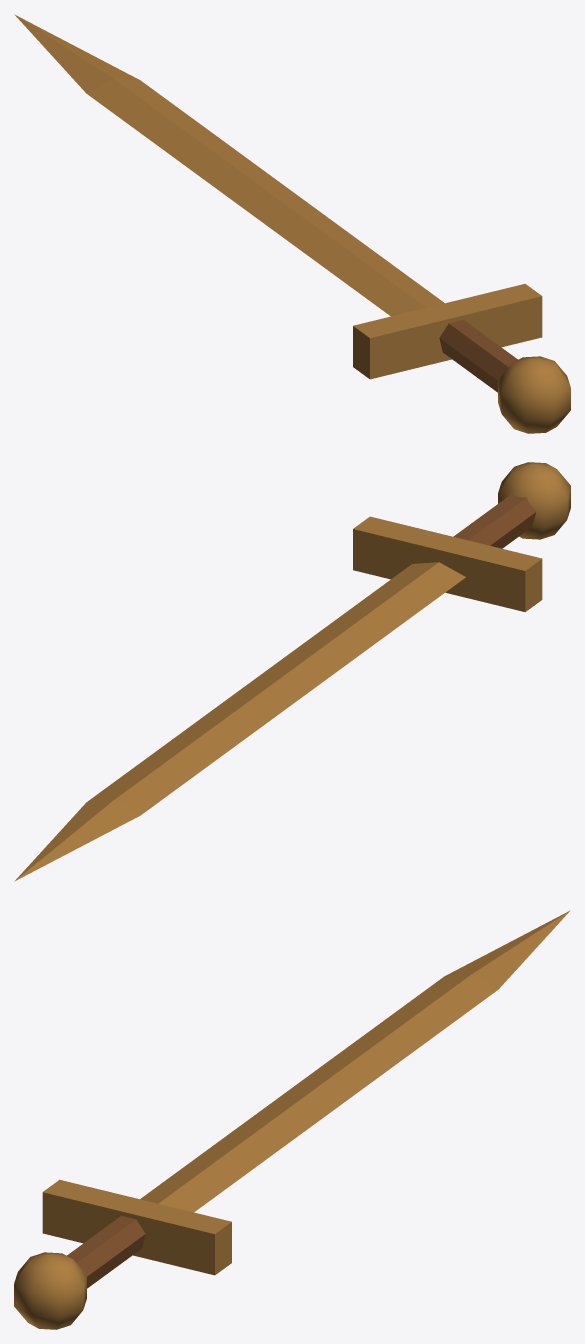
File: Weapon_Sword_Bronze.fbx
3 views of the same model, one above another, from view 1: azimuth 30°, elevation 25°; view 2: azimuth 150°, elevation 25°; view 3: azimuth 330°, elevation 25° (orthographic).
Parts seen in each view (by area): view 1: Weapon_Sword_Bronze; view 2: Weapon_Sword_Bronze; view 3: Weapon_Sword_Bronze.
Part boxes in pixels (x1,y1,x2,y2): Weapon_Sword_Bronze: (14, 14, 570, 433); Weapon_Sword_Bronze: (14, 462, 570, 881); Weapon_Sword_Bronze: (14, 910, 570, 1329).
Bounding box in the file's own units: 7 × 2.8 × 37.93.
